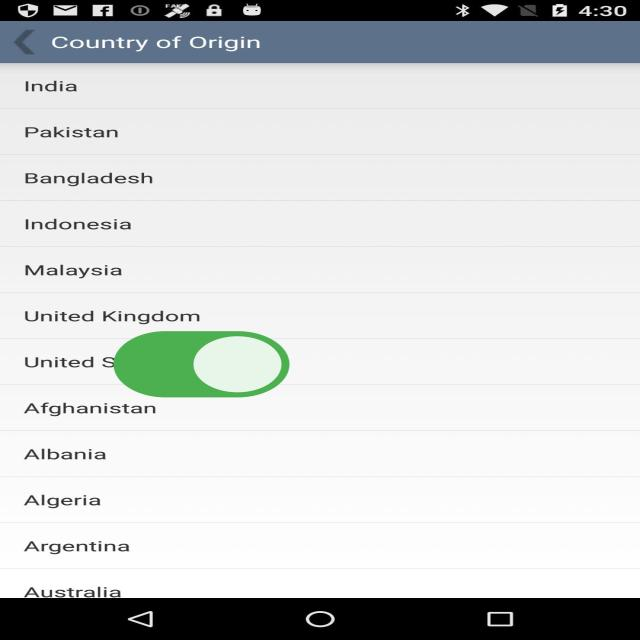social proof: (105, 306, 298, 428)
